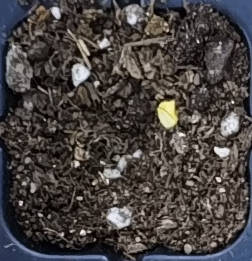pepper seed: (68, 33, 247, 163)
